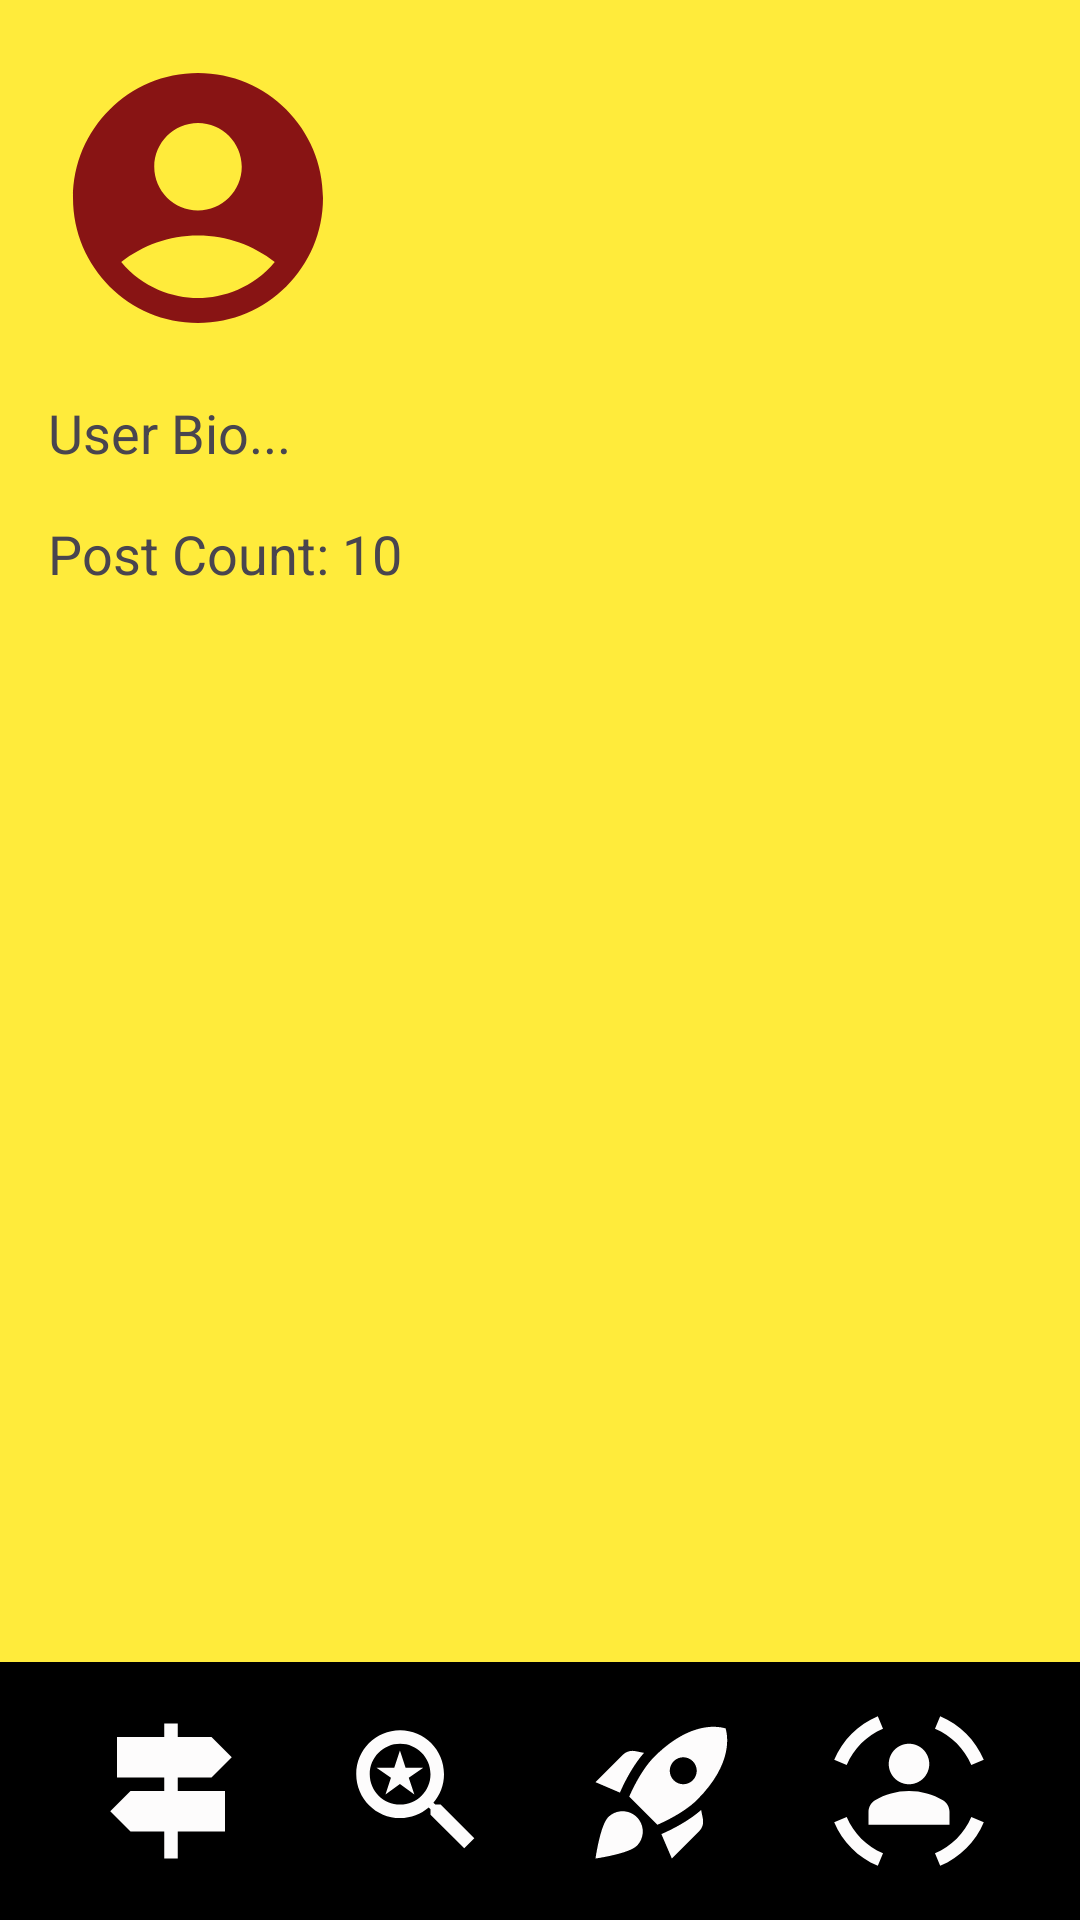

Locate icon controls on the screen. Image size 1080w x 1920h, boxes as (x1, y1, x2, y2).
profileactivity: (834, 1716, 984, 1866)
profilepic: (73, 73, 323, 323)
searchactivity: (356, 1730, 474, 1848)
